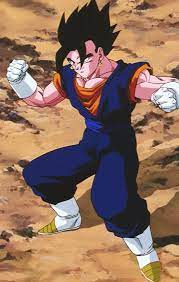Vegito: (61, 8, 118, 79)
